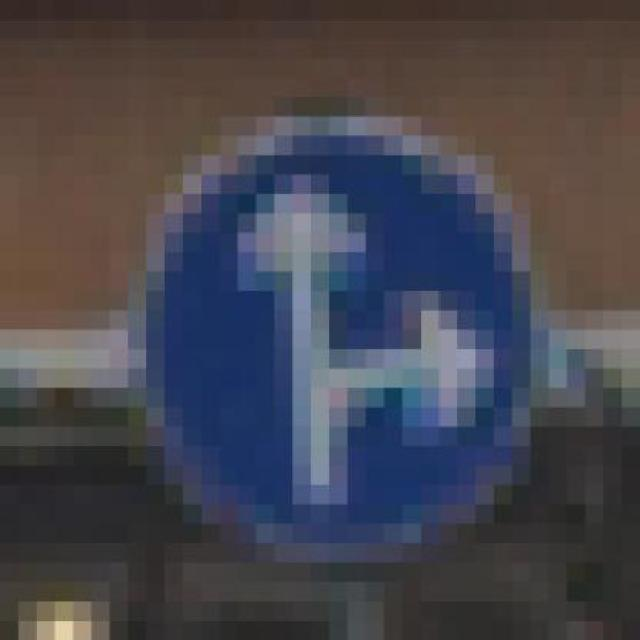Go Straight or Turn Right: (110, 58, 585, 562)
